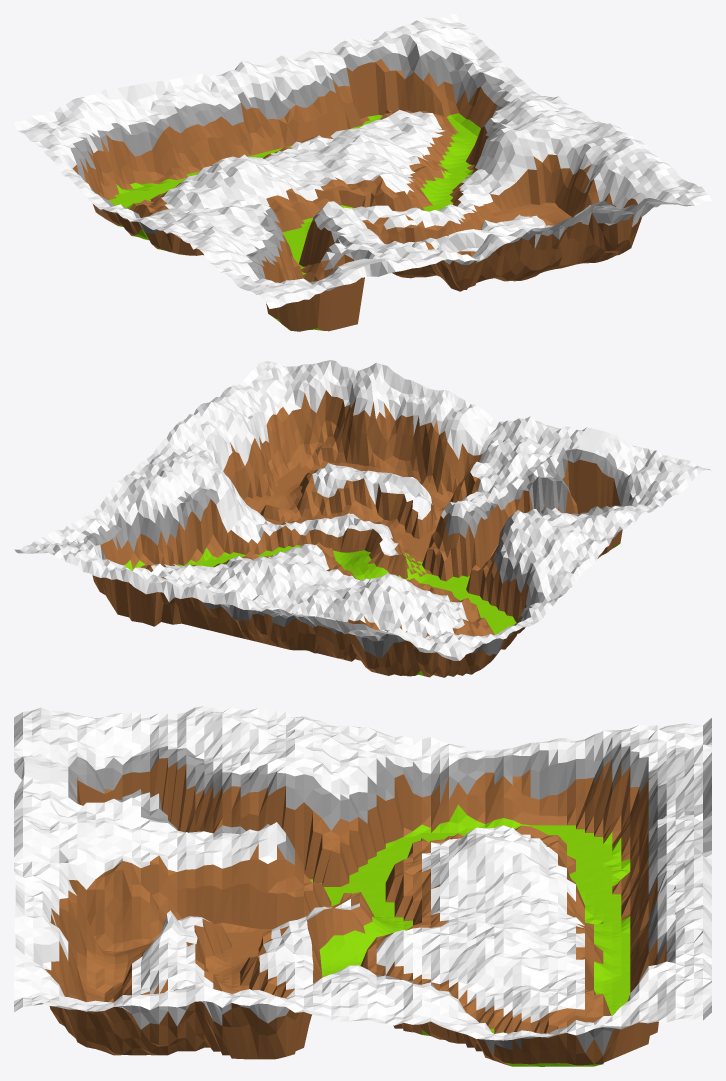
The model's file is low_poly_terrain.glb.
3 views of the same model, one above another, from view 1: azimuth 30°, elevation 25°; view 2: azimuth 150°, elevation 25°; view 3: azimuth 270°, elevation 25° (orthographic). The views are drawn at different scales.
Parts seen in each view (by area): view 1: Terrain; view 2: Terrain; view 3: Terrain.
Boxes of the visible parts, x1,y1,x2,y2 form: Terrain: (14,14,711,331); Terrain: (14,360,710,677); Terrain: (14,706,711,1066).
Size of what is drawn, in the model's own units: 10000 by 2094 by 10000.
